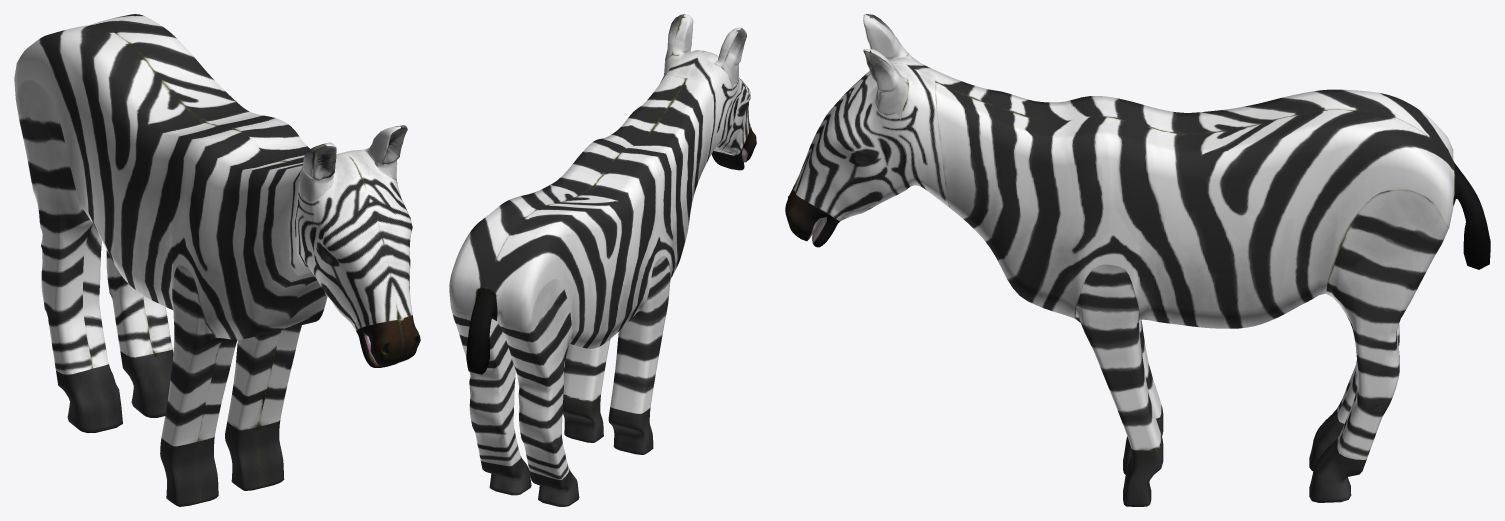
File: zebra.glb
3 views of the same model, side by side, from view 1: azimuth 30°, elevation 25°; view 2: azimuth 150°, elevation 25°; view 3: azimuth 270°, elevation 25° (orthographic). The views are drawn at different scales.
Size of the model in its own units: 7.42 by 29.58 by 42.
1 material, 1 textured.
